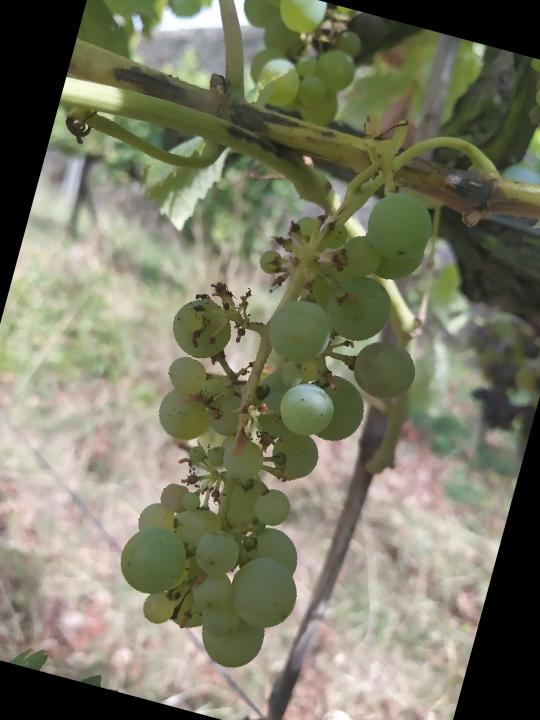grape: (85, 139, 466, 700)
